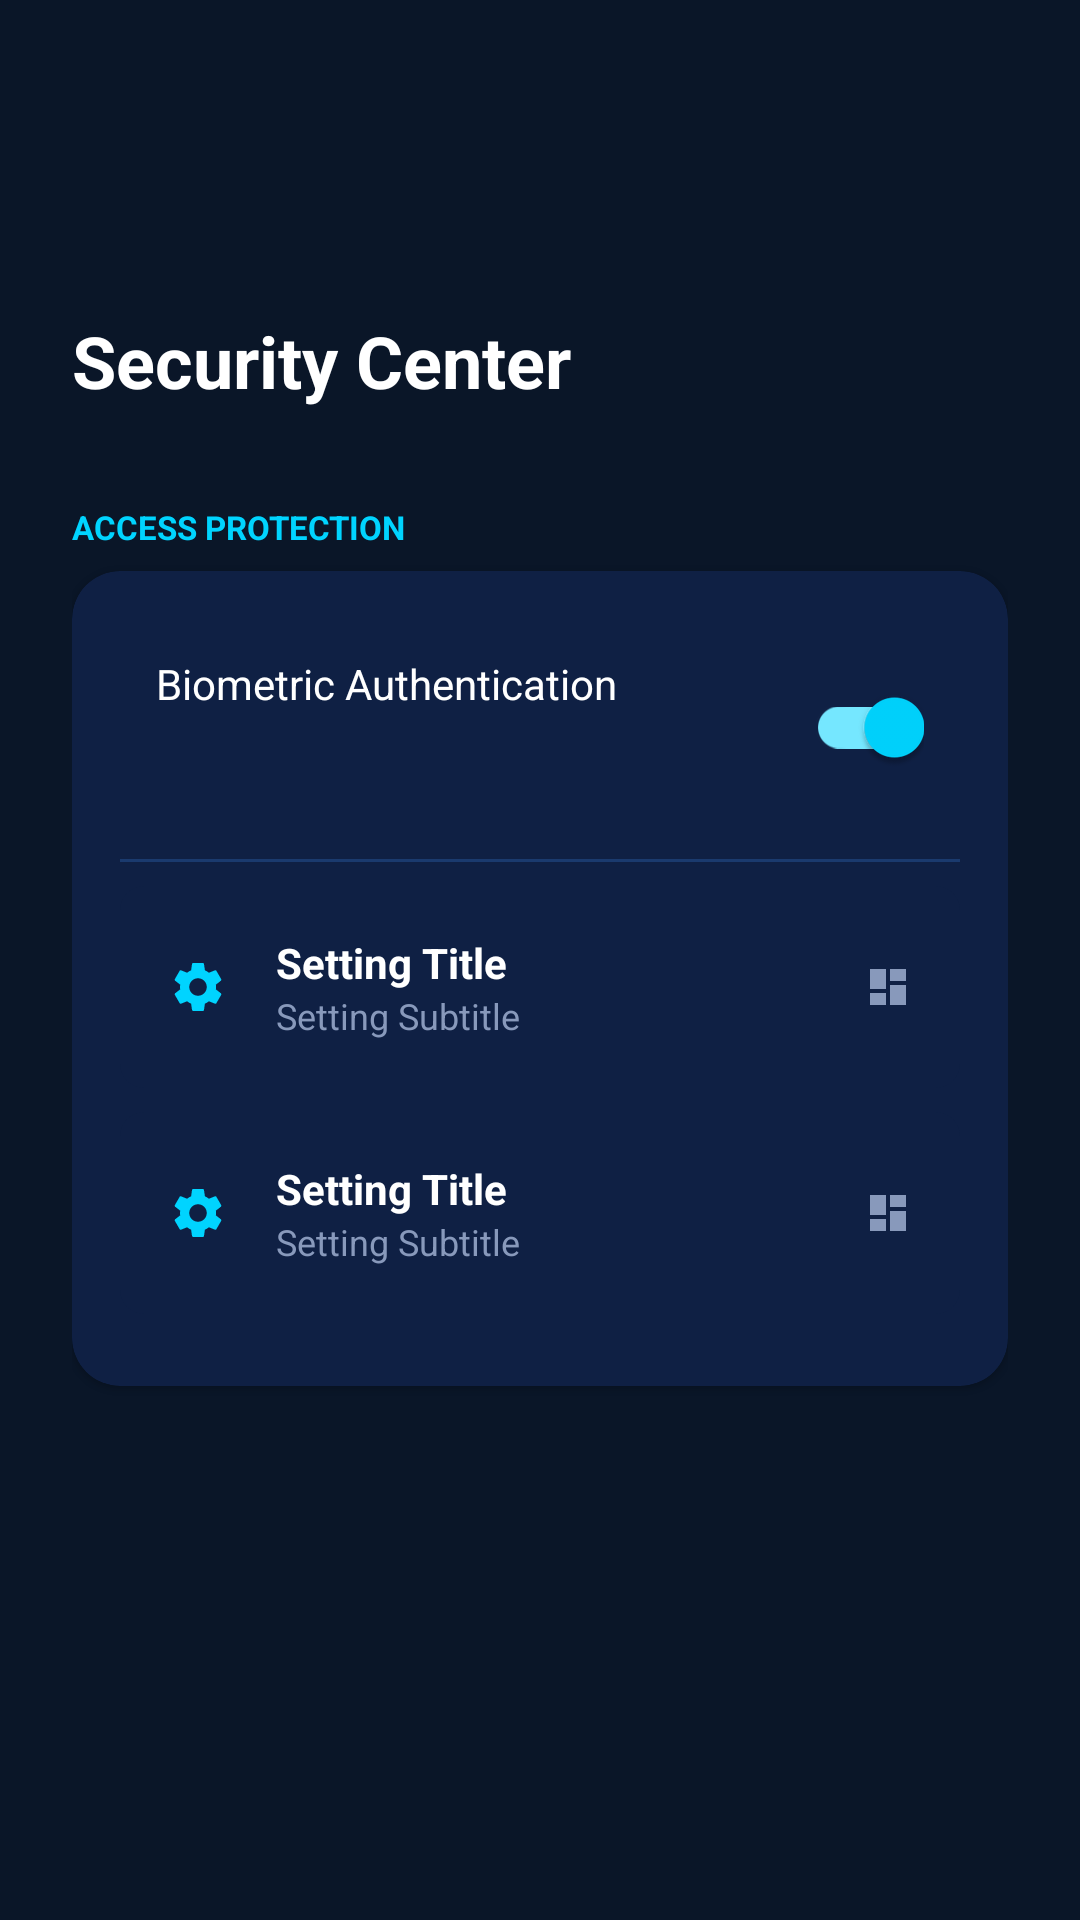

Icon click points for this 1080w x 1920h phone screenshot, format [x,y]:
dashboard: [888,987], [888,1213]
